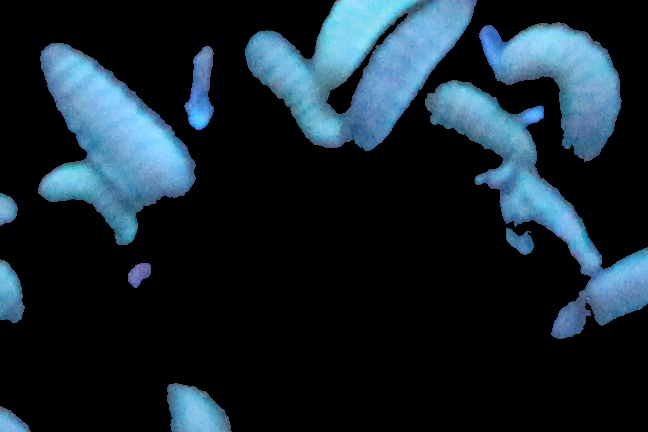larvae: (38, 42, 196, 227), (344, 1, 476, 157), (497, 26, 620, 165), (245, 32, 339, 145), (426, 84, 535, 170), (304, 1, 413, 78), (40, 164, 137, 248)
